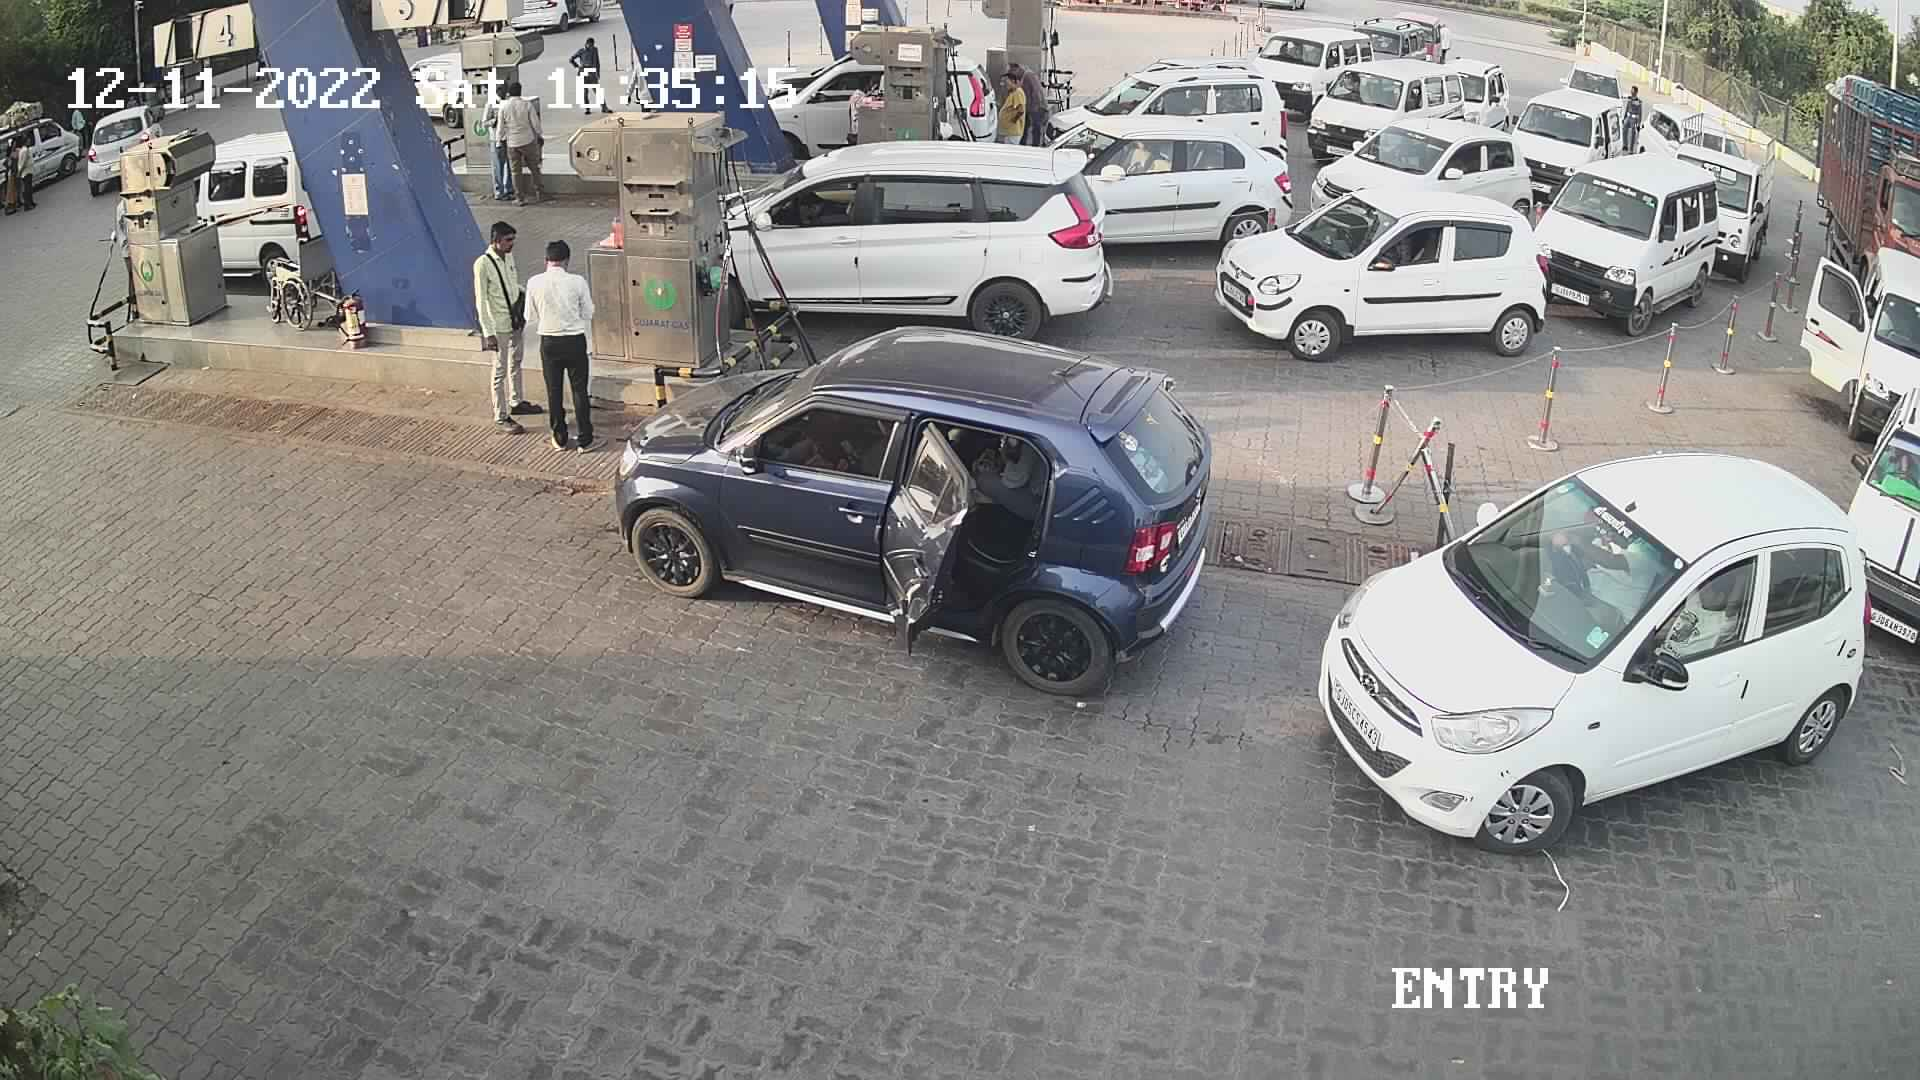Car: (1312, 421, 1882, 865), (617, 318, 1220, 692), (683, 135, 1121, 347), (1205, 170, 1555, 371), (1040, 45, 1296, 218), (737, 24, 993, 196), (1036, 95, 1298, 261), (1520, 138, 1738, 335), (1303, 100, 1542, 256), (1283, 40, 1502, 187), (1792, 222, 1920, 464), (167, 125, 349, 295), (1825, 369, 1920, 687), (1495, 71, 1658, 228), (1665, 99, 1780, 291), (1230, 12, 1399, 131), (75, 94, 190, 198), (0, 100, 91, 211), (396, 38, 480, 138), (1553, 55, 1640, 152)
HMV: (1807, 67, 1917, 284)
